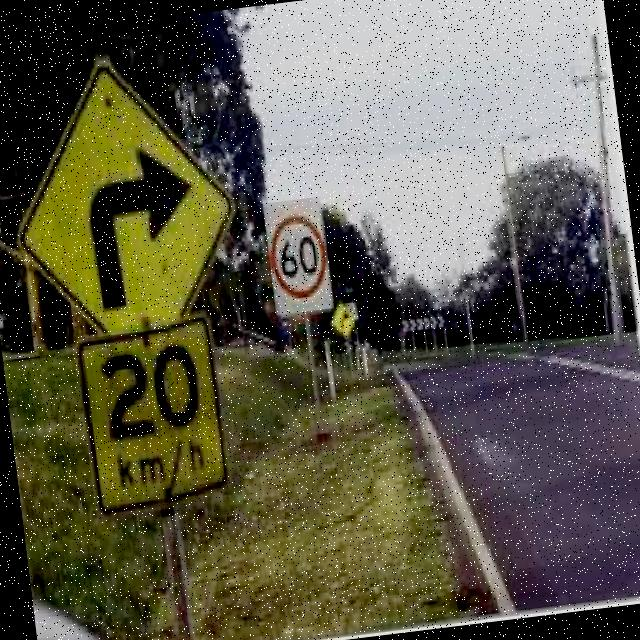Ograniczenie predkosci do 60: (266, 206, 332, 306)
